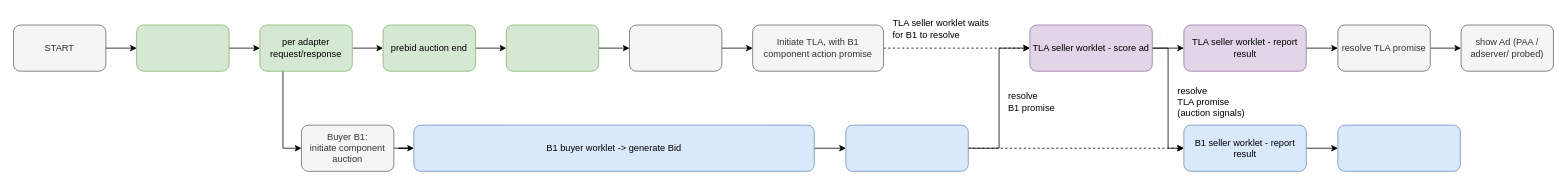
Image size: 1567x185. Some labels were removed from this diagram. The centre of each missing label's shape, as x and y in pixels:
Adserver request / response: (x=675, y=47)
adserver targeting (based on winning bid): (x=552, y=47)
B1 buyer worklet - report win: (x=1398, y=147)
B1 seller worklet - score ad: (x=906, y=147)
prebid auction init: (x=182, y=47)
